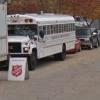Bus: (11, 8, 80, 69)
